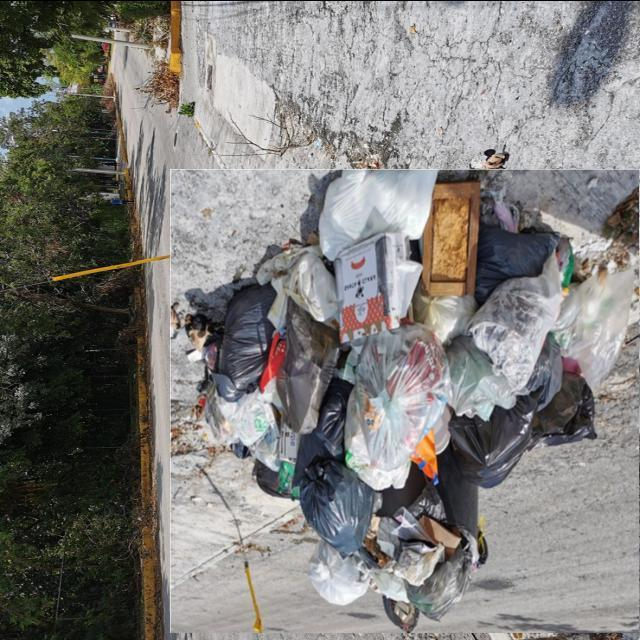Trashbag: (206, 289, 274, 409), (298, 462, 384, 554), (452, 384, 552, 458), (479, 218, 562, 291), (306, 384, 354, 450)
